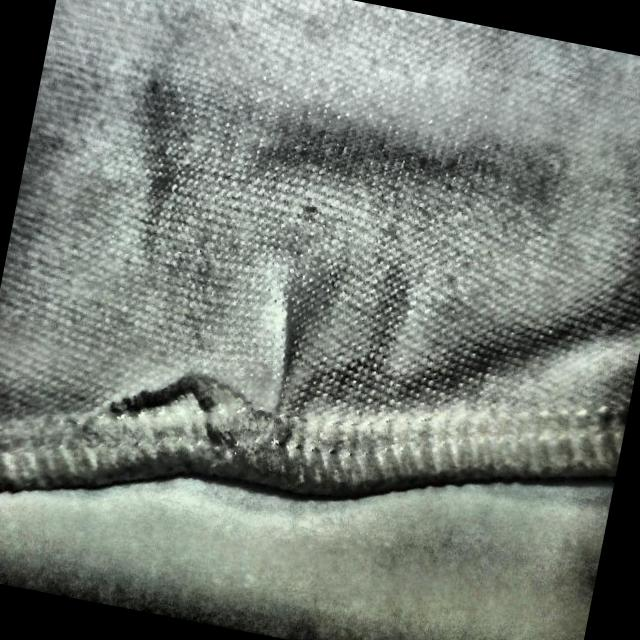gray stitch: (111, 286, 330, 495)
